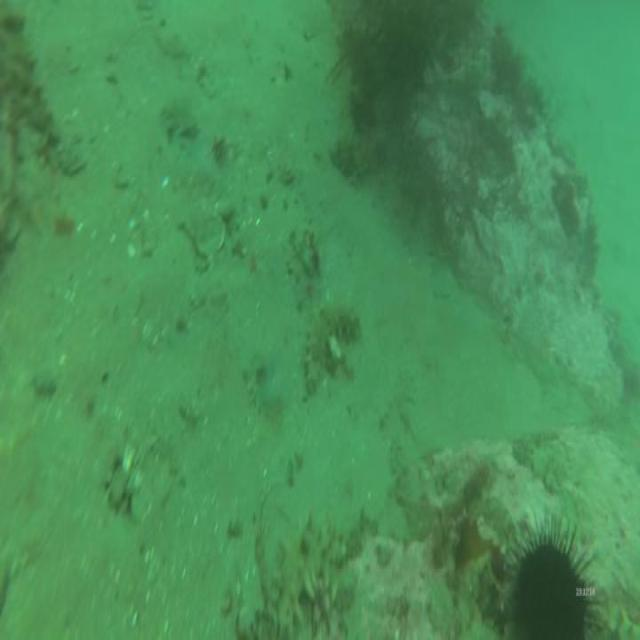echinus: (493, 512, 600, 640)
holothurian: (261, 509, 353, 634), (298, 289, 362, 398)
waterweeds: (331, 2, 479, 138)
